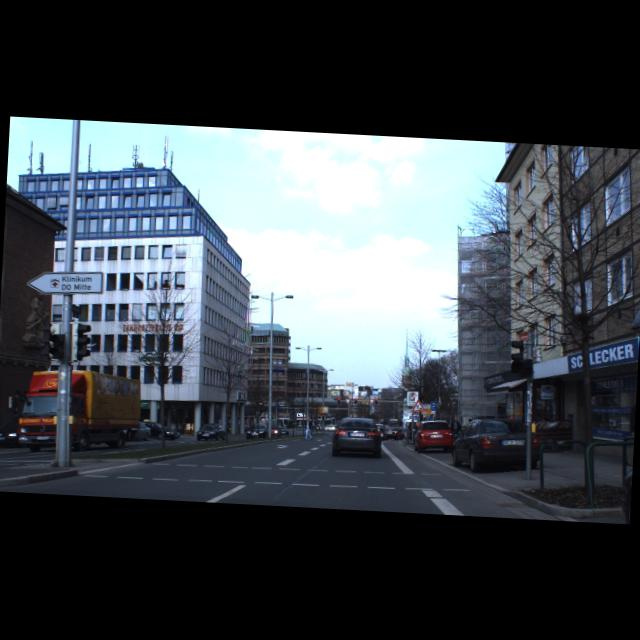danger: (411, 398, 426, 412)
